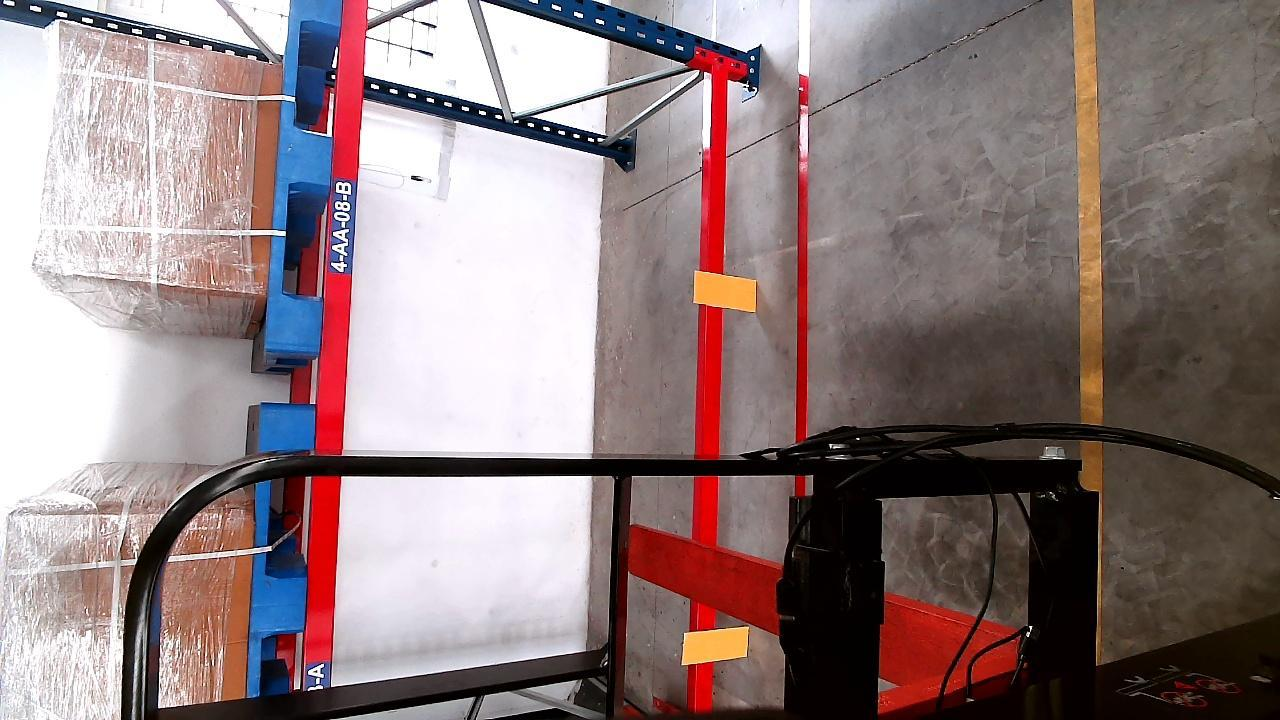red_line: (795, 0, 814, 496)
